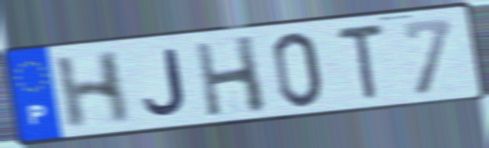0: (269, 29, 326, 110)
7: (400, 15, 458, 97)
H: (52, 47, 133, 133), (191, 33, 271, 119)
J: (141, 45, 190, 119)
T: (333, 21, 388, 103)
